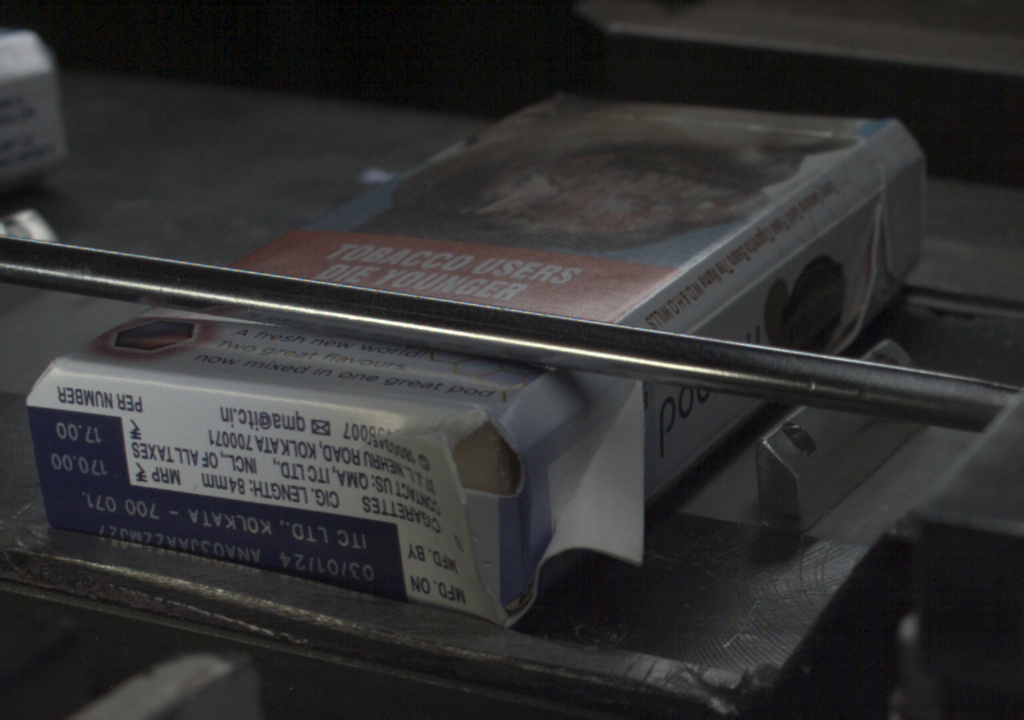g_label: (43, 484, 407, 606)
g_lmiter: (685, 261, 782, 331), (782, 190, 875, 261)
ng_bottom: (411, 416, 526, 624)
ng_lmiter: (527, 382, 650, 568)
price: (42, 414, 131, 485)
